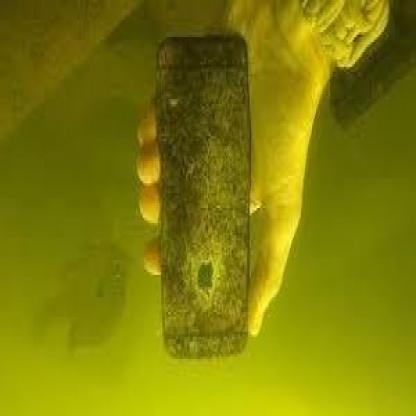cellphone: (156, 34, 250, 362)
